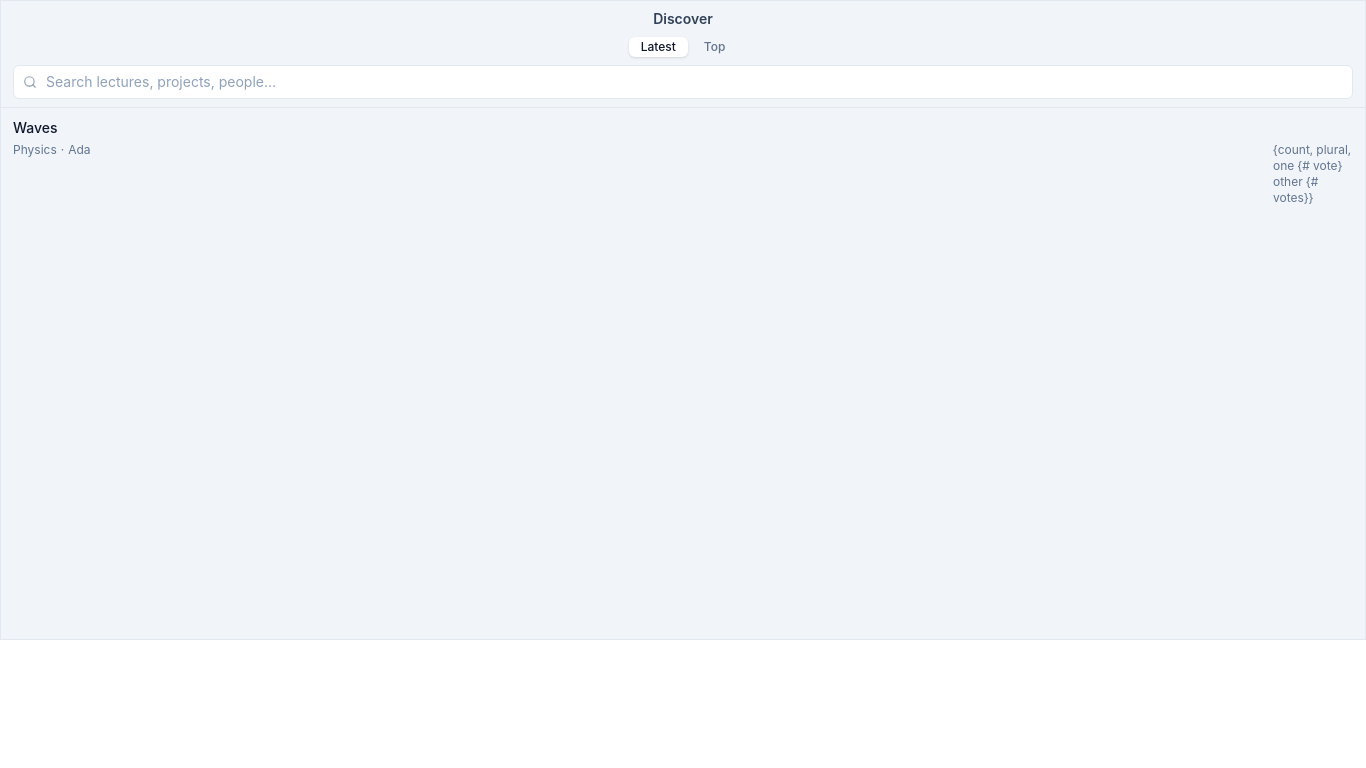
Test: DeckFeed search (SOC-2) › searches lectures, projects, and people, grouped and linked
Expected: the link "Waves" is shown, [13,119,58,136]
Type "cat" into the search field labelled "Search lectures, projects, people…" at (683, 82), box [13,65,1353,99]
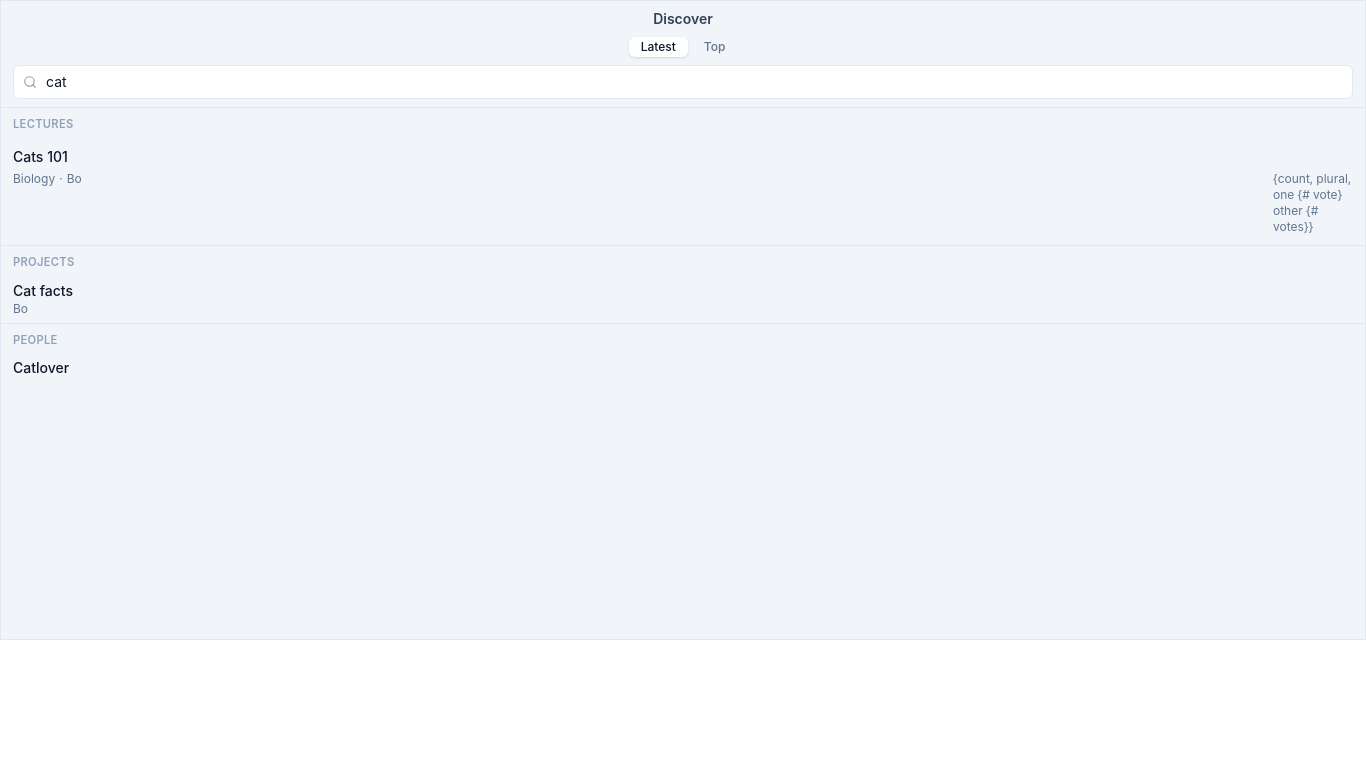
Expected: the link "Cats 101" is shown, [13,148,68,165]
Expected: the text "Lectures" is shown, [13,117,74,131]
Expected: the text "Projects" is shown, [13,255,74,269]
